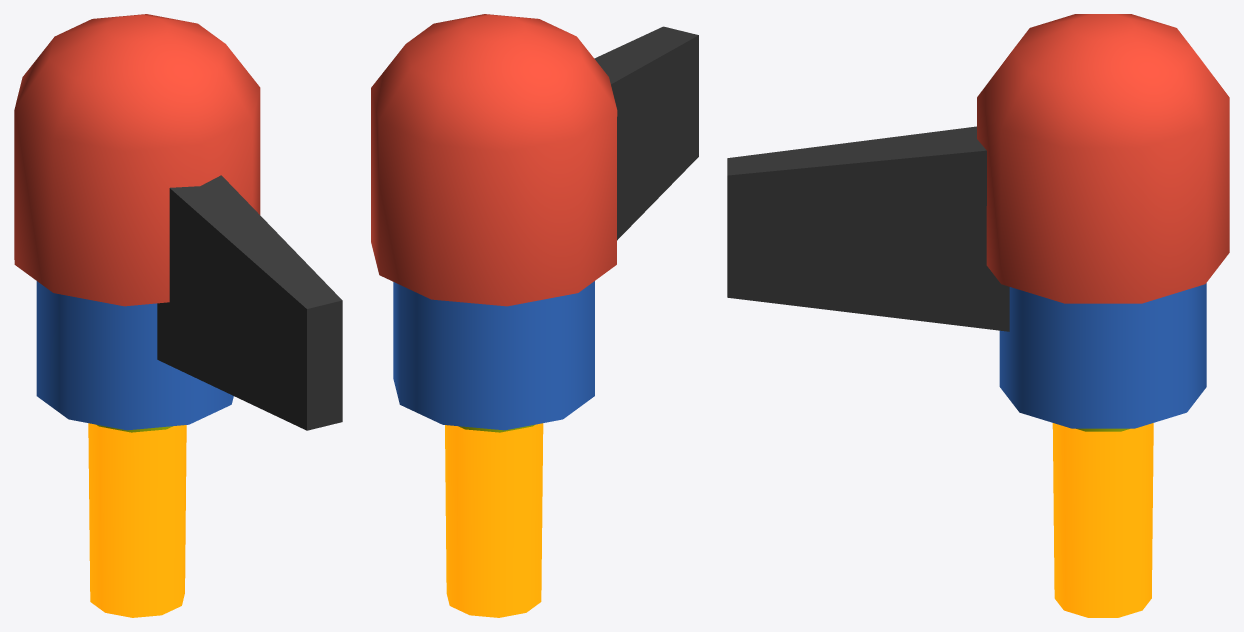
File: directional.glb
3 views of the same model, side by side, from view 1: azimuth 30°, elevation 25°; view 2: azimuth 150°, elevation 25°; view 3: azimuth 270°, elevation 25° (orthographic).
Visible parts, largest first — view 1: Cube.062, boost-part.017; view 2: Cube.062, boost-part.017; view 3: Cube.062, boost-part.017.
Part boxes in pixels (box(x1,y1,x2,y2)): Cube.062: box(14, 14, 342, 432); boost-part.017: box(88, 423, 186, 617); Cube.062: box(371, 14, 698, 432); boost-part.017: box(445, 423, 543, 617); Cube.062: box(727, 14, 1229, 431); boost-part.017: box(1052, 423, 1153, 617).
Bounding box in the file's own units: 0.1072 × 0.2814 × 0.2241.
